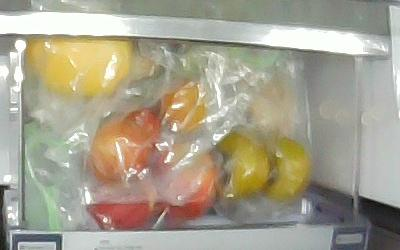apple_vinyl: (153, 145, 216, 219), (86, 181, 159, 232)
grapefruit_vinyl: (29, 36, 134, 99)
persimmon_vinyl: (215, 131, 268, 201), (262, 135, 312, 202)
prune_vinyl: (85, 117, 151, 186), (115, 106, 169, 175), (148, 78, 208, 135)
